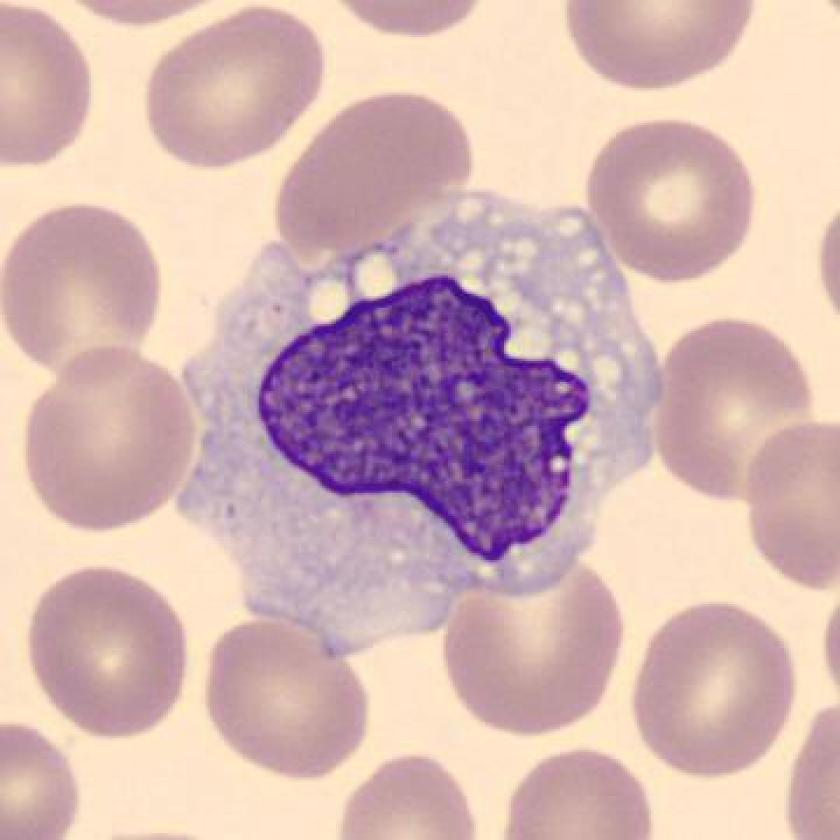monocyte: (167, 182, 689, 668)
